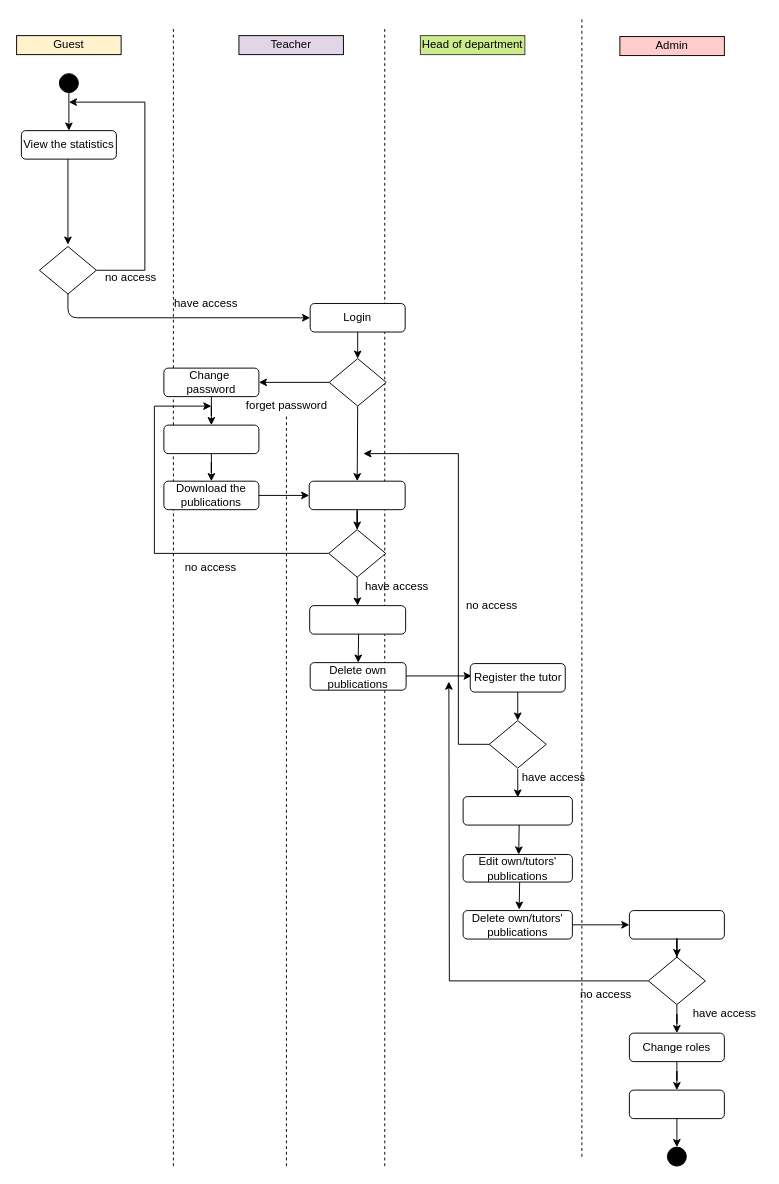
The diagram is 779 pixels wide and 1184 high, and some of its shapes have lost their labels. Each missing label, with the centre of its shape:
"Delete roles" goes at point (676, 1104).
"Edit own publications" goes at point (357, 619).
"Register the users" goes at point (676, 924).
"Upload own publications" goes at point (356, 495).
"Upload own/tutors' publications" goes at point (517, 810).
"View the publications" goes at point (211, 439).
